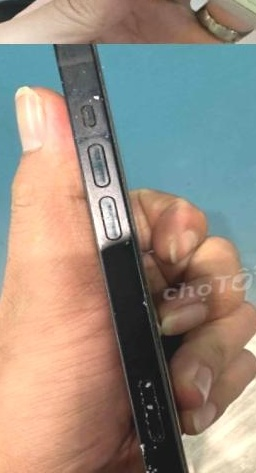scratch: (100, 177, 172, 361), (106, 363, 211, 473), (50, 44, 127, 178)
